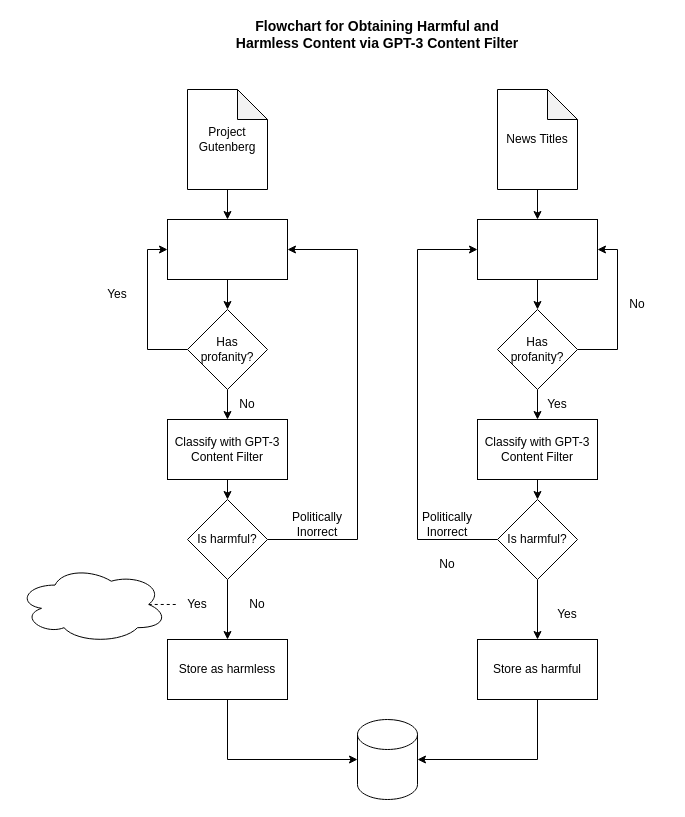
Some shapes in this 685 by 817 pixel diagram are drawn without their labels. Each missing label, with the centre of its shape:
"CSV" belongs at (x=387, y=759).
"False-Positive (has bias)" belongs at (x=92, y=604).
"Read sentence per line" belongs at (x=227, y=249).
"Read title per line" belongs at (x=537, y=249).
